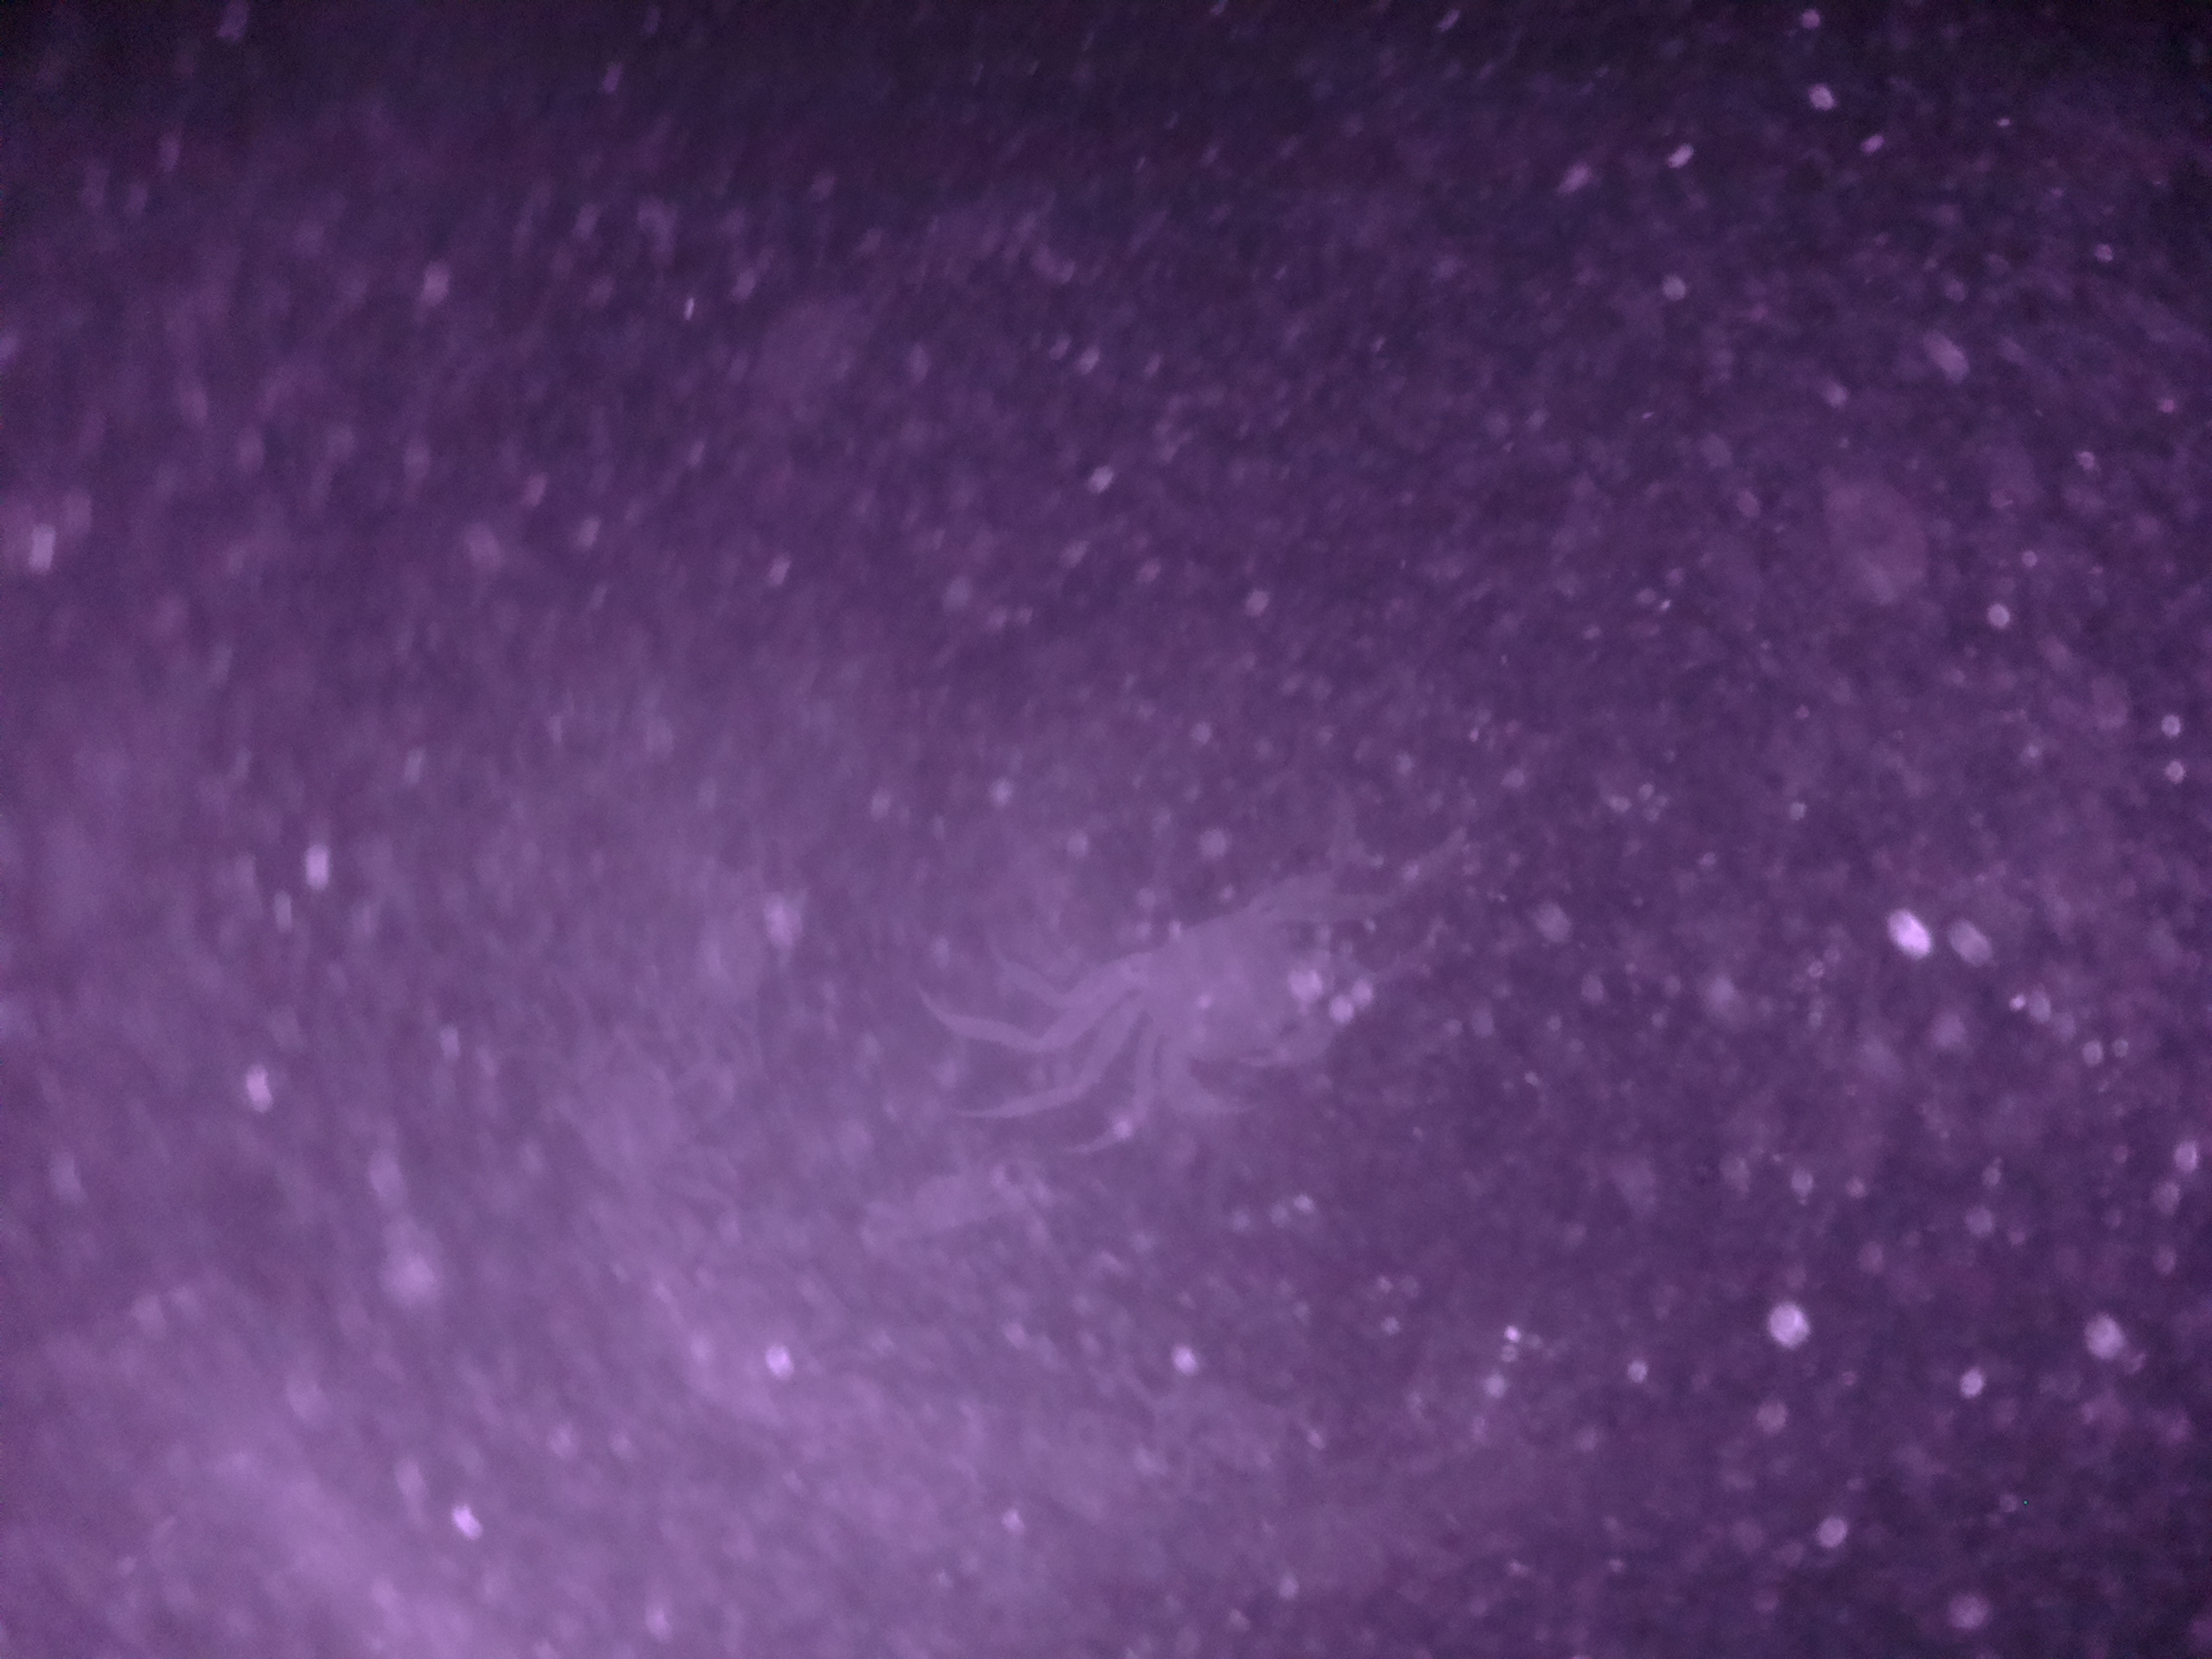Crab: (1078, 873, 1383, 1131)
